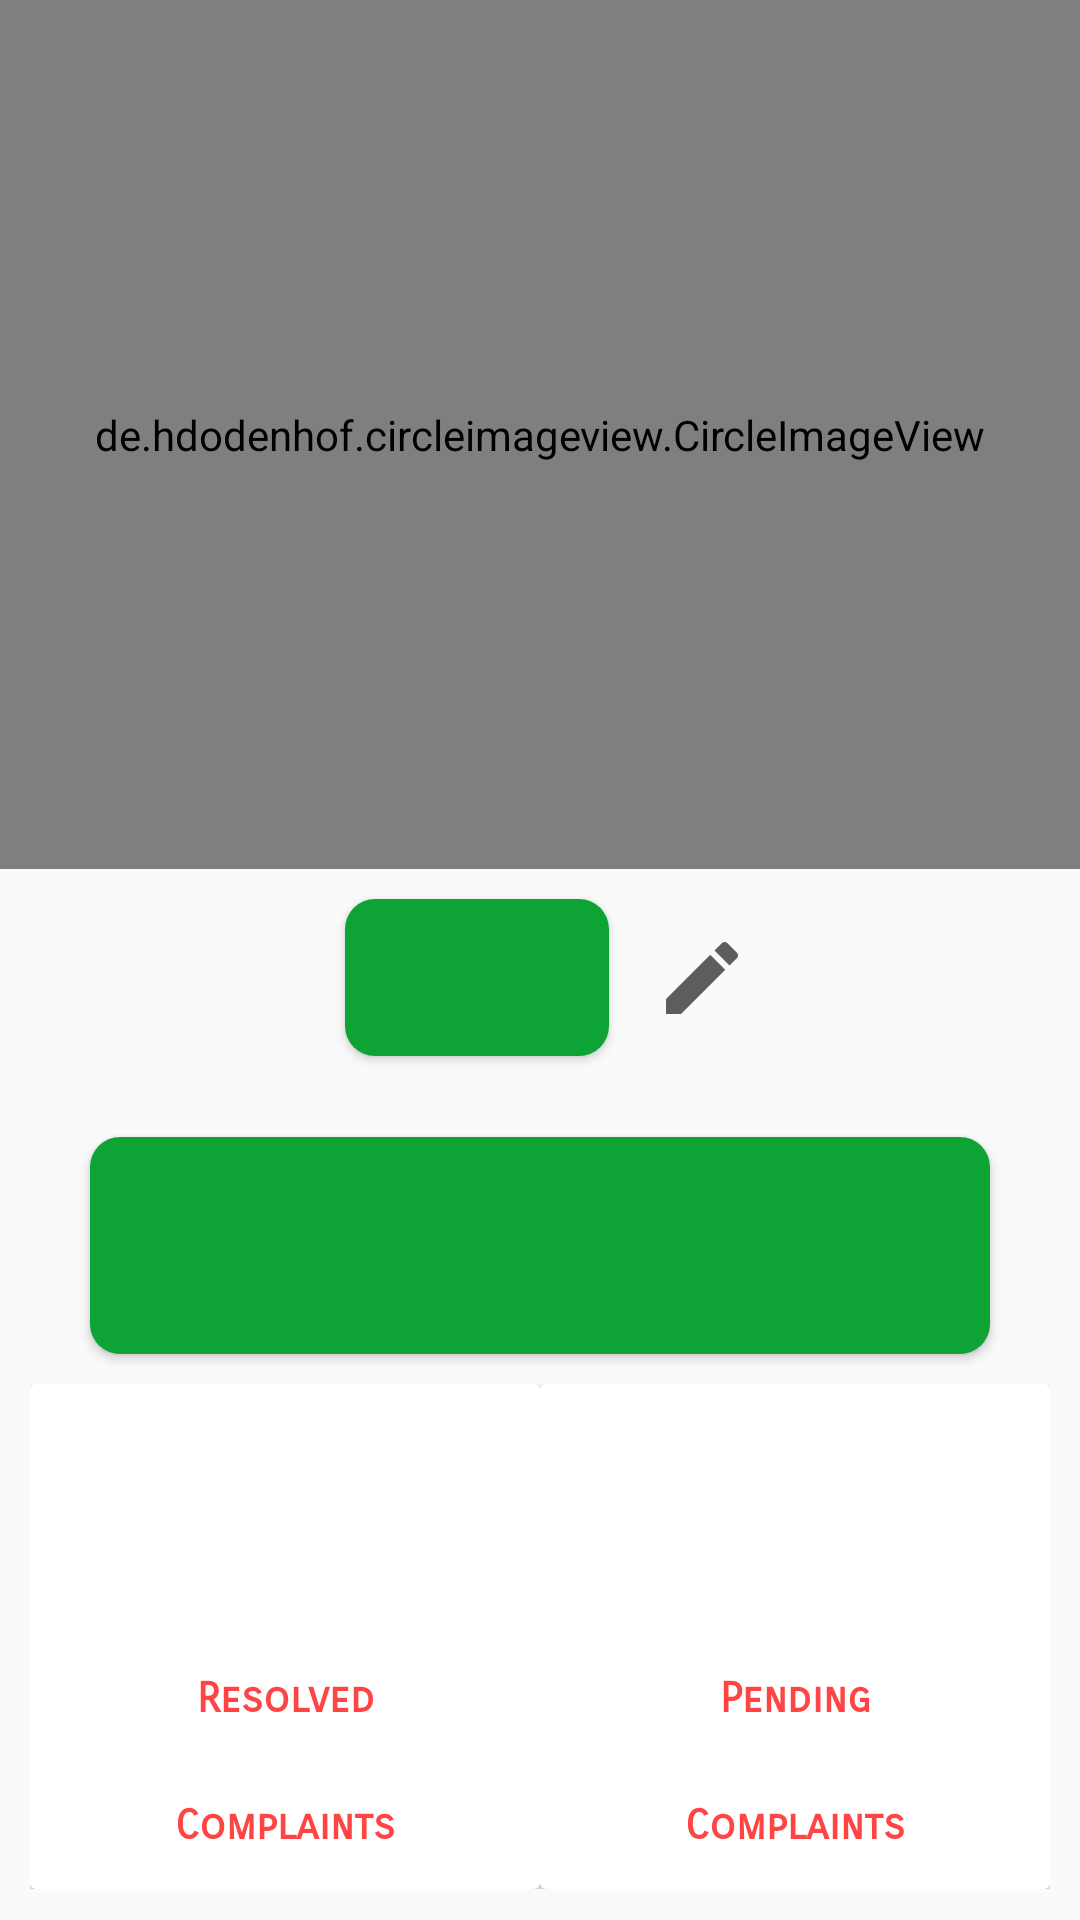

Where to tap for icons on this 1080px×1920px app screen, as (x,y):
edit: (702,978)
